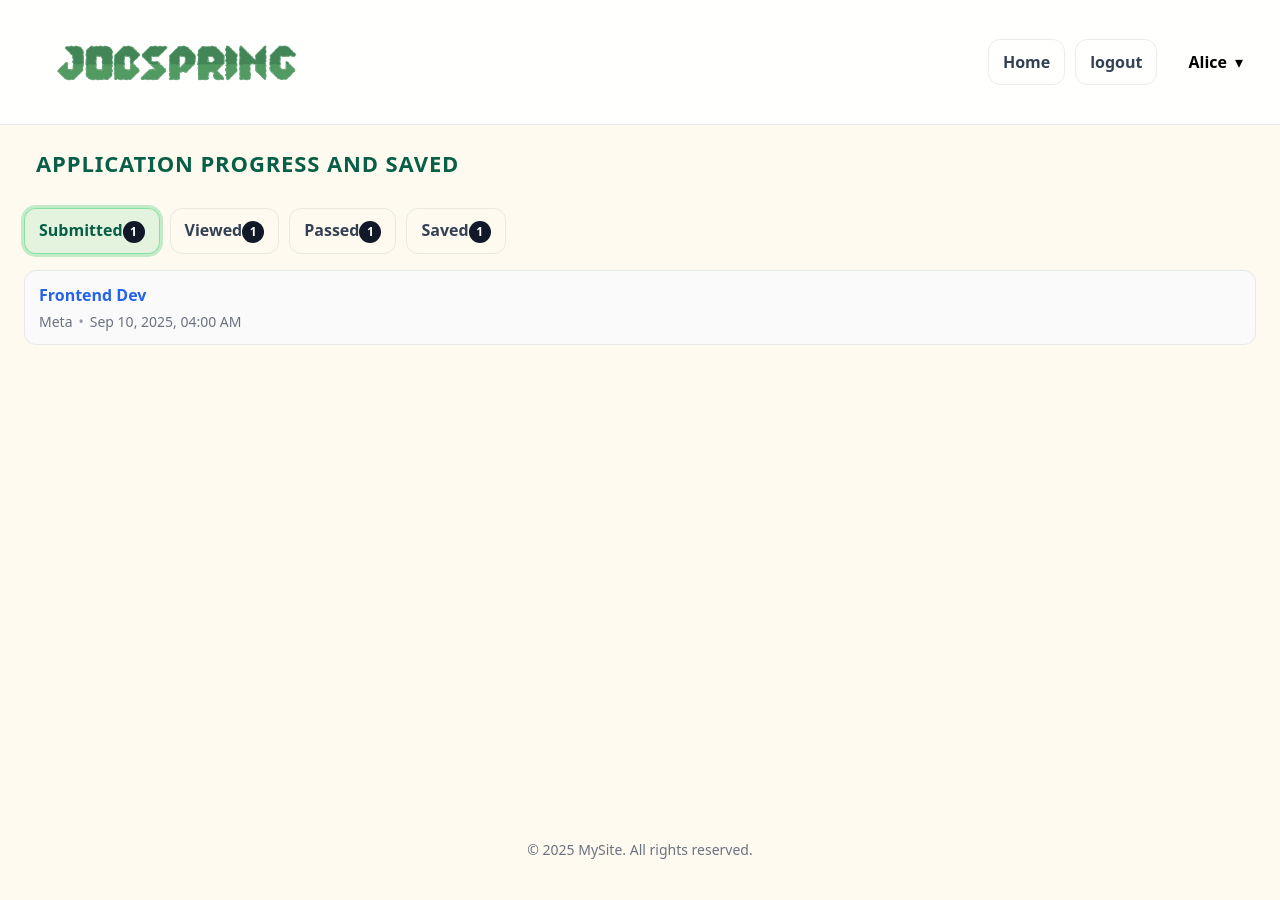
Scenario: switches to passed and shows correct job
The image size is (1280, 900).
Click the tab "Passed 1".
click(343, 231)  # box x1=289 y1=208 x2=396 y2=254
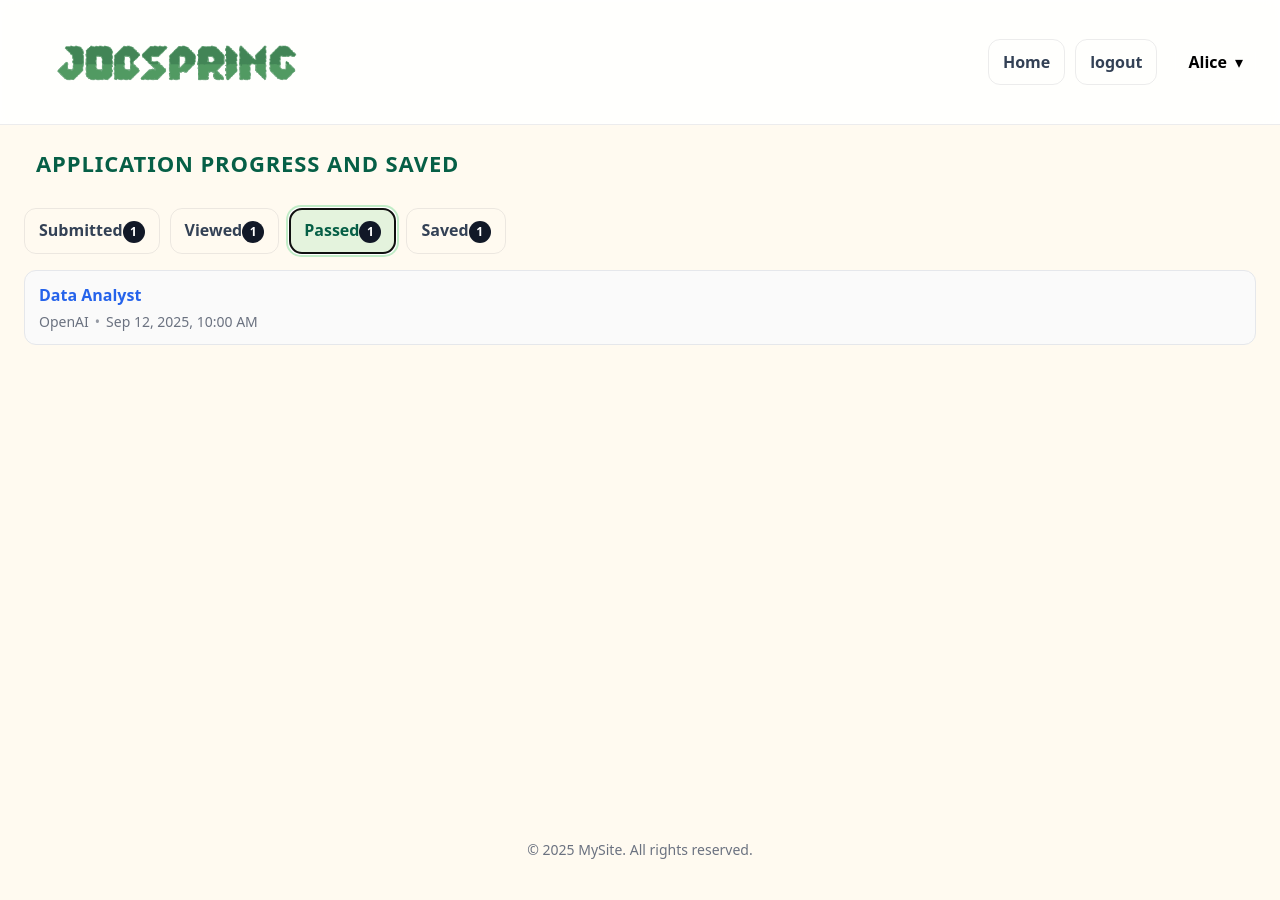
Check: the link "Data Analyst" is shown, box x1=39 y1=284 x2=141 y2=306
Check: the text "OpenAI" is shown, box x1=39 y1=310 x2=89 y2=332
